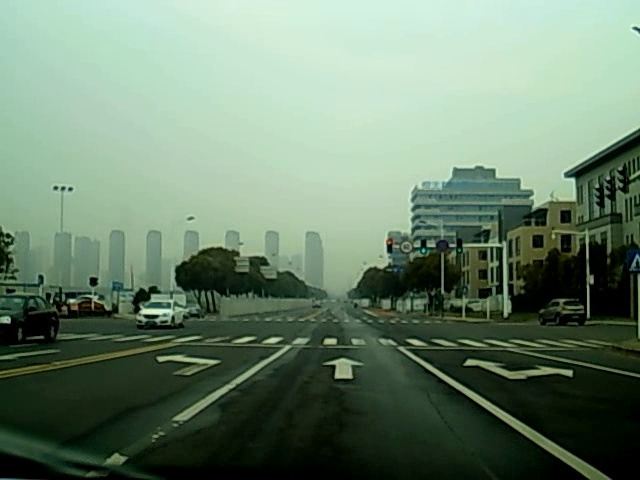Traffic_Light_go: (419, 237, 428, 256), (456, 240, 463, 255)
Traffic_Light_stop: (385, 237, 393, 256)
